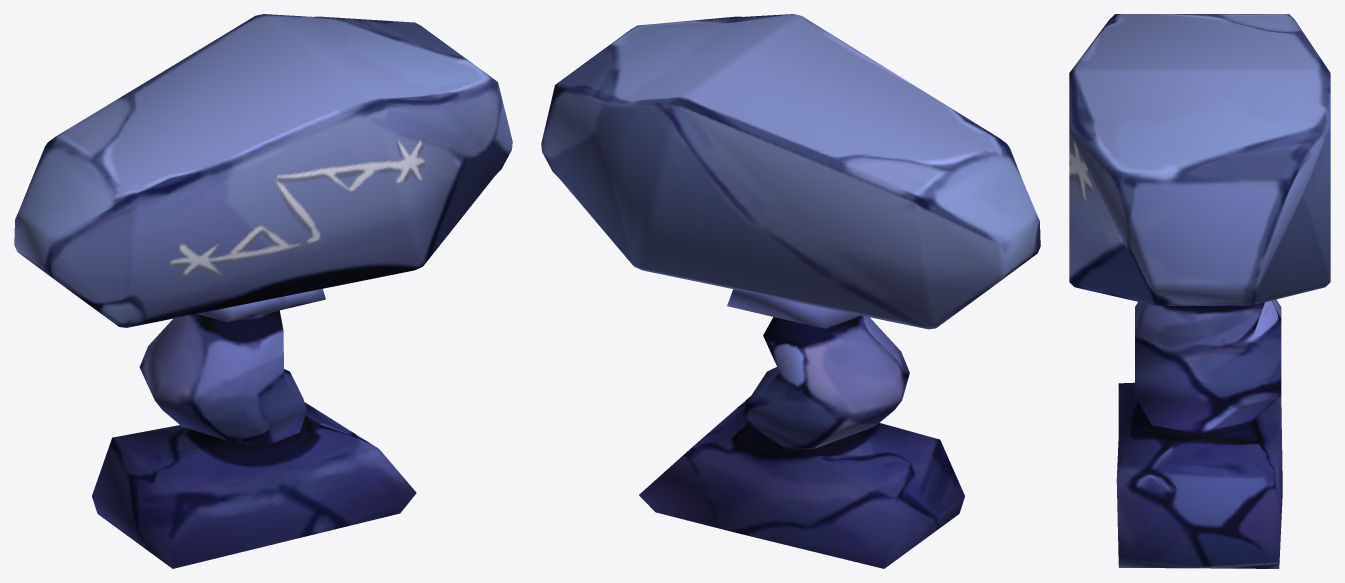
The model's file is SM_ProtectionStone.fbx.
3 views of the same model, side by side, from view 1: azimuth 30°, elevation 25°; view 2: azimuth 150°, elevation 25°; view 3: azimuth 270°, elevation 25° (orthographic). The views are drawn at different scales.
Parts seen in each view (by area): view 1: Cube.011, Cube.012; view 2: Cube.011, Cube.012; view 3: Cube.011, Cube.012.
Part boxes in pixels (left/top/right/bottom): Cube.011: left=14, top=14, right=512, bottom=327; Cube.012: left=92, top=288, right=416, bottom=568; Cube.011: left=541, top=14, right=1040, bottom=329; Cube.012: left=639, top=289, right=964, bottom=568; Cube.011: left=1069, top=14, right=1330, bottom=305; Cube.012: left=1116, top=299, right=1282, bottom=568.
Size of the model in its own units: 305 by 279 by 140.
